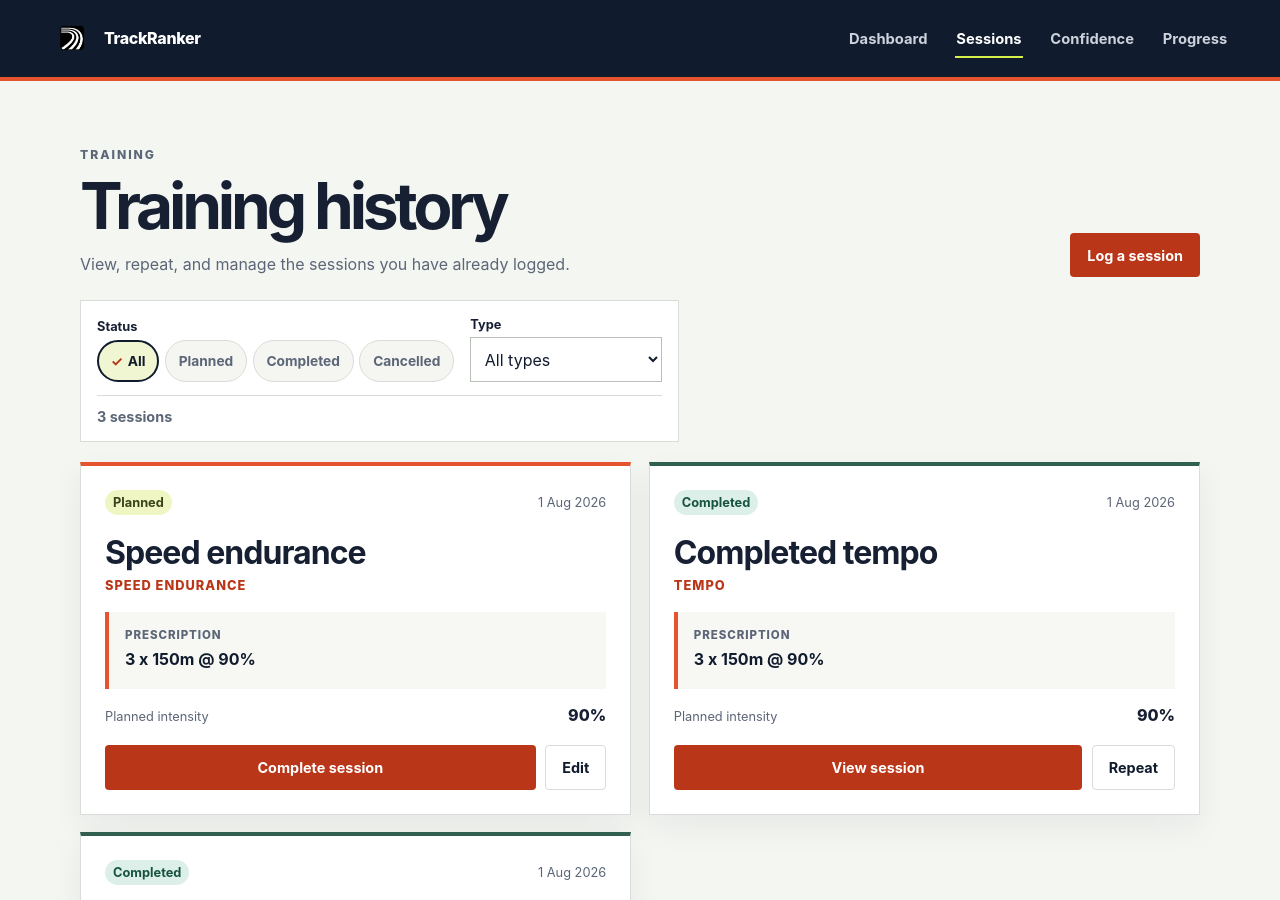
Test: training sessions › filters sessions by Completed status
Click the button "Completed": (303, 361) [253,340,354,382]
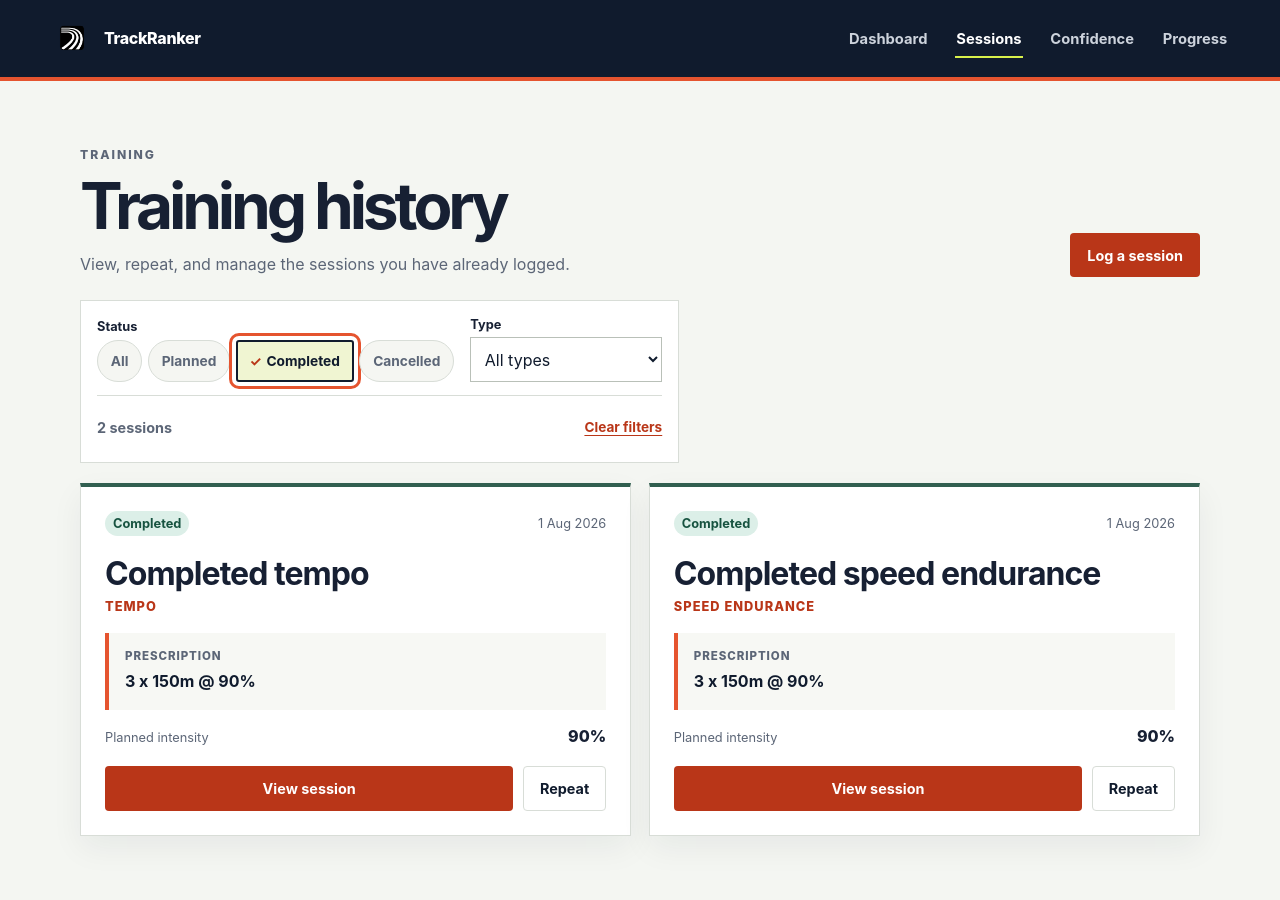
Now the text "2 sessions" is shown, box [97,419,172,436]
